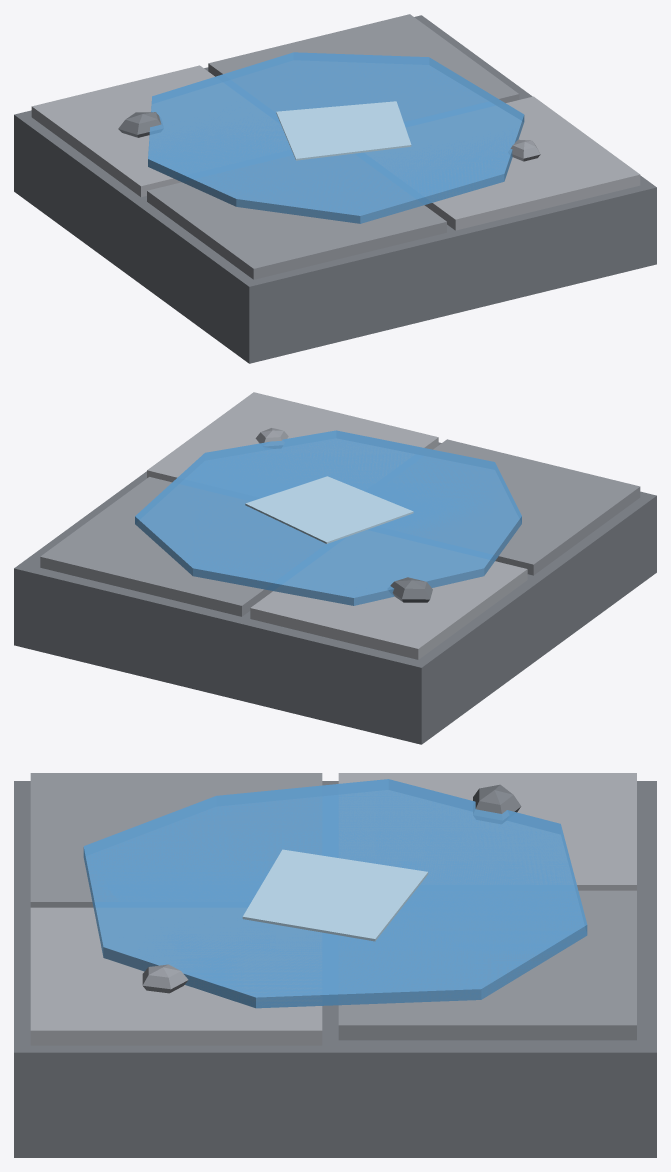
The model's file is tile_puddle.glb.
The picture shows the model from 3 angles, top to bottom: view 1: azimuth 30°, elevation 25°; view 2: azimuth 150°, elevation 25°; view 3: azimuth 270°, elevation 25°; orthographic projection. The views are drawn at different scales.
Parts seen in each view (by area): view 1: TilePuddle; view 2: TilePuddle; view 3: TilePuddle.
Part boxes in pixels (x1,y1,x2,y2): TilePuddle: (14, 14, 656, 363); TilePuddle: (14, 392, 656, 744); TilePuddle: (14, 773, 656, 1157).
Bounding box in the file's own units: 0.97 × 0.237 × 0.97.
